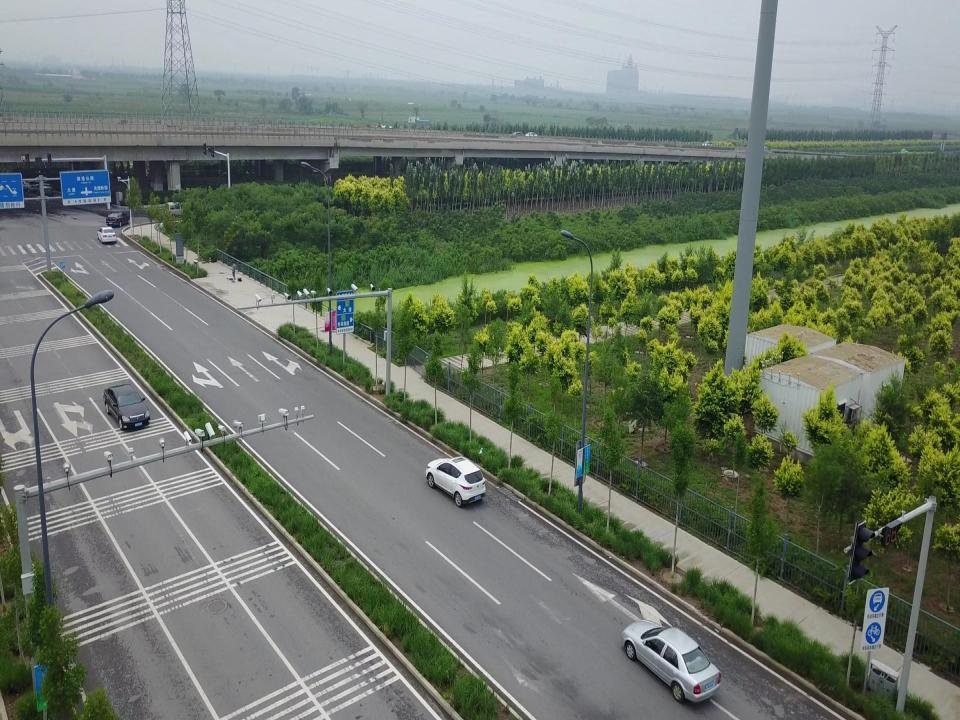car: (621, 619, 721, 703), (426, 456, 486, 507), (103, 383, 150, 431), (106, 212, 130, 228), (96, 226, 116, 244), (20, 178, 40, 192), (38, 182, 54, 197), (509, 132, 525, 140), (524, 132, 537, 140), (702, 141, 716, 148)
van: (165, 202, 187, 220)
